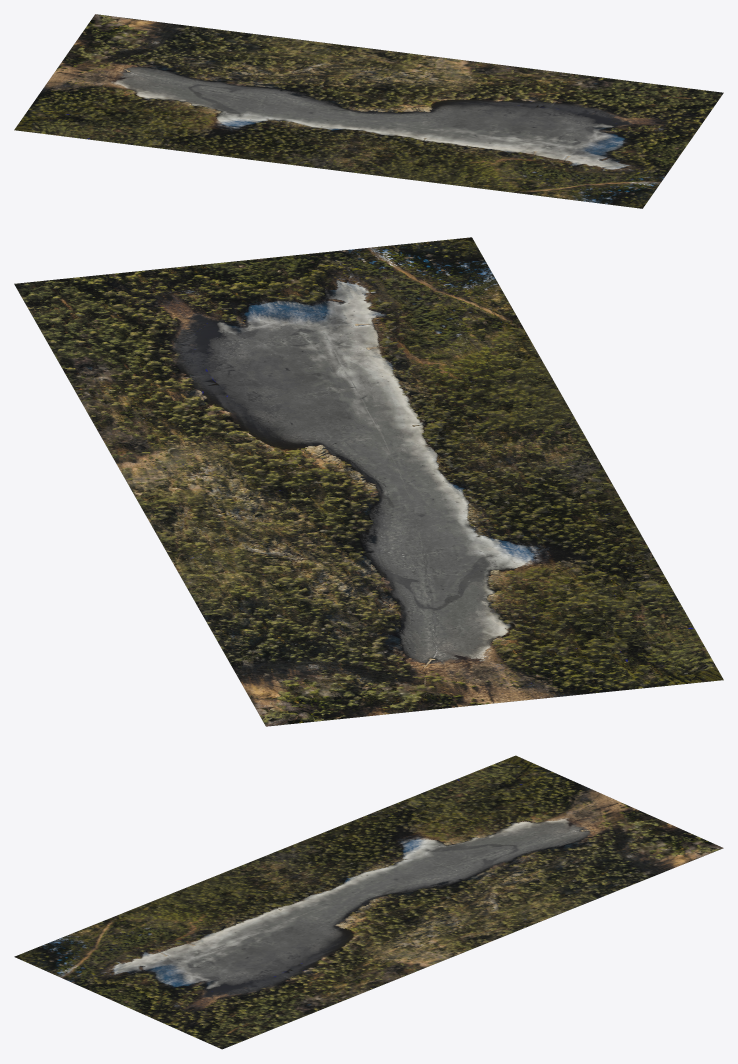
File: 260321-Sanda-2D_map.glb
The picture shows the model from 3 angles, top to bottom: view 1: azimuth 30°, elevation 25°; view 2: azimuth 150°, elevation 25°; view 3: azimuth 270°, elevation 25°; orthographic projection. The views are drawn at different scales.
Parts seen in each view (by area): view 1: Plane; view 2: Plane; view 3: Plane.
Boxes of the visible parts, bbox=[...] form: Plane: bbox=[14, 14, 723, 208]; Plane: bbox=[14, 237, 723, 726]; Plane: bbox=[14, 755, 723, 1049].
Bounding box in the file's own units: 795 × 0 × 811.
Materials: 1 (1 with a texture image).
